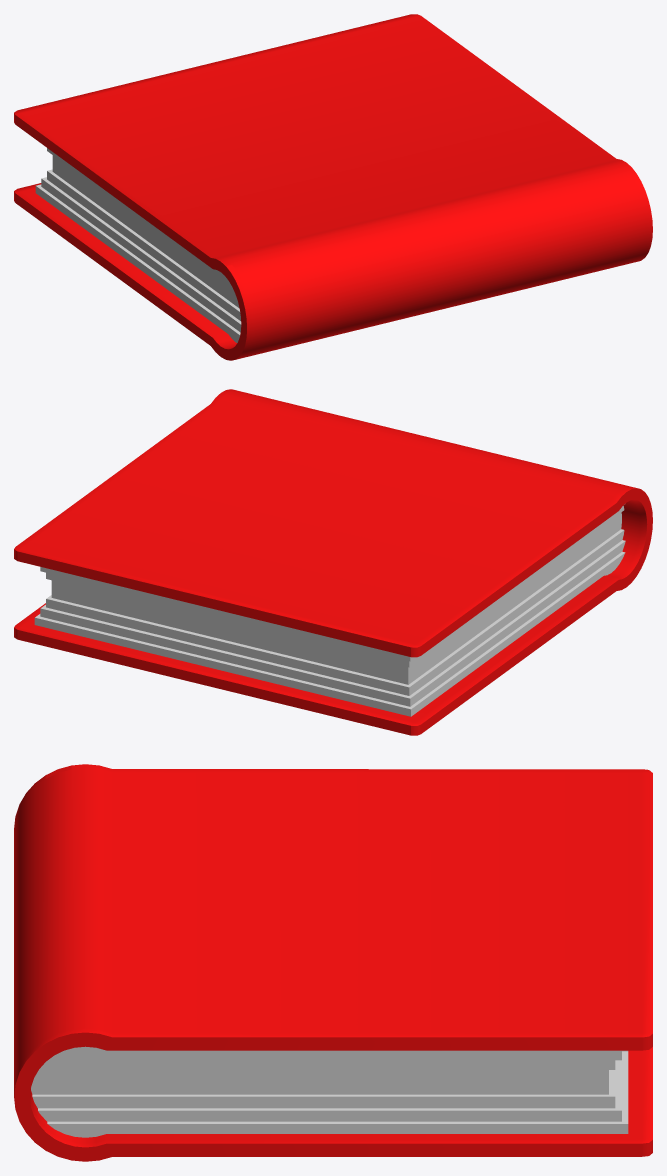
The model's file is Book_1.FBX.
The picture shows the model from 3 angles, top to bottom: view 1: azimuth 30°, elevation 25°; view 2: azimuth 150°, elevation 25°; view 3: azimuth 270°, elevation 25°; orthographic projection. The views are drawn at different scales.
Parts seen in each view (by area): view 1: Box108; view 2: Box108; view 3: Box108.
Boxes of the visible parts, box(x1,y1,x2,y2) form: Box108: box(14, 14, 652, 360); Box108: box(14, 389, 652, 735); Box108: box(14, 764, 652, 1161).
Bounding box in the file's own units: 1784 × 402 × 1796.
